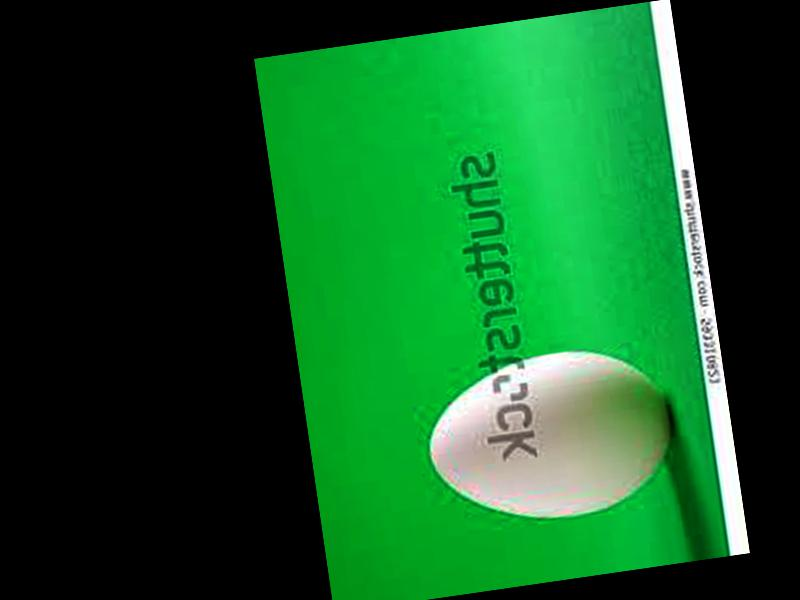Eggs: (419, 338, 686, 536)
